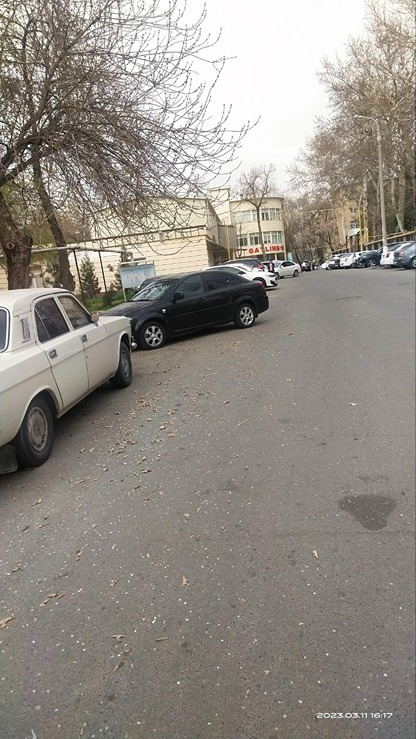car: (0, 274, 126, 460), (108, 262, 270, 350), (243, 260, 285, 292), (274, 255, 307, 281), (356, 249, 380, 267), (396, 244, 416, 265), (383, 243, 396, 265), (342, 254, 356, 269)
tree: (0, 0, 247, 267), (295, 0, 416, 237), (235, 164, 283, 251)
